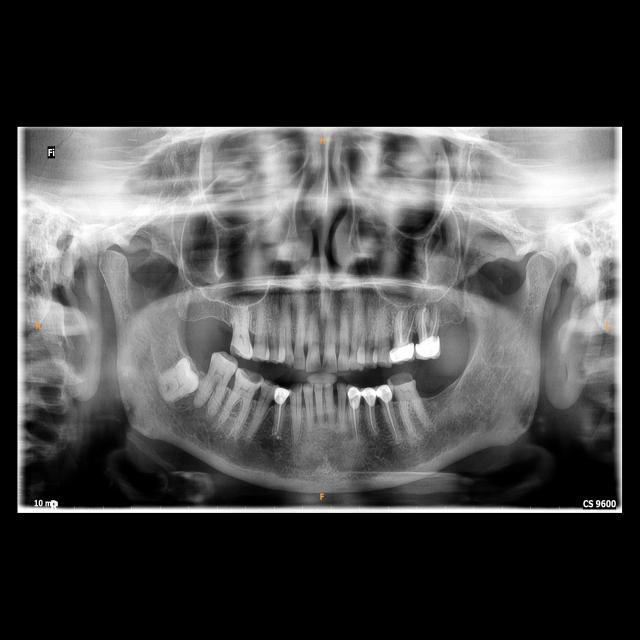dentin-curugu: (239, 369, 263, 386), (388, 373, 416, 385), (388, 371, 410, 386)
kanal-tedavisi: (388, 308, 413, 342), (414, 303, 436, 337), (362, 403, 382, 436), (382, 401, 400, 437), (274, 402, 284, 447), (351, 404, 363, 438)
kaplama: (389, 343, 417, 366), (417, 337, 441, 359), (345, 384, 363, 408), (378, 382, 394, 407), (273, 385, 292, 406), (364, 384, 378, 408)
